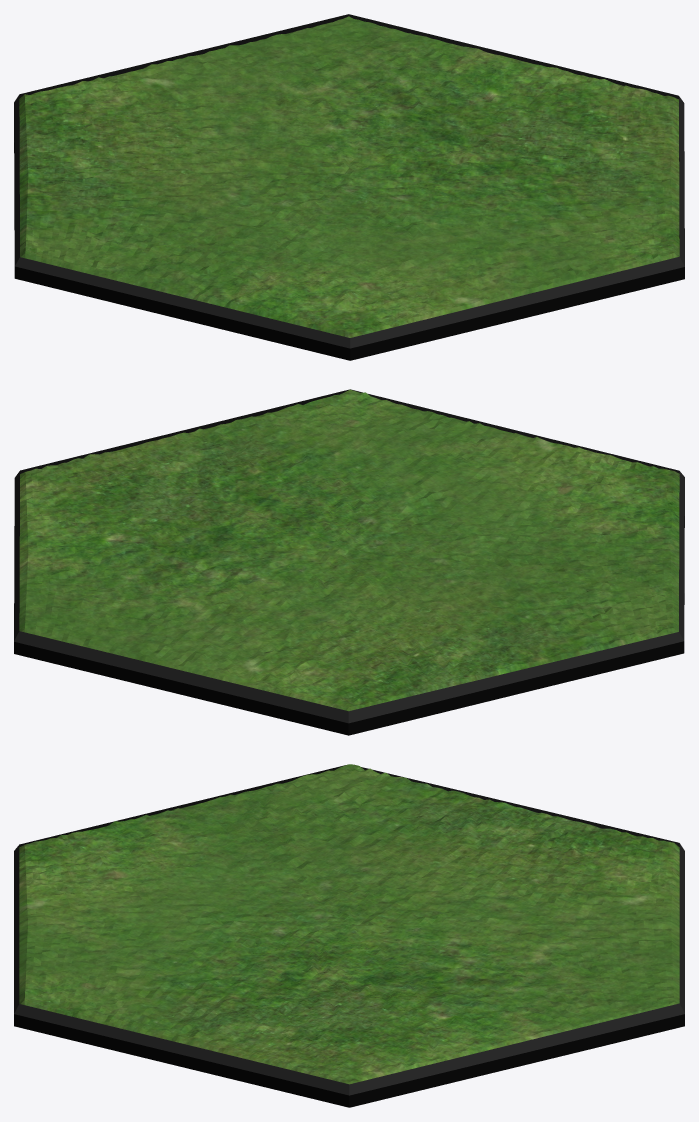
File: HexTileGrass_UsingDisplacement2.glb
3 views of the same model, one above another, from view 1: azimuth 30°, elevation 25°; view 2: azimuth 150°, elevation 25°; view 3: azimuth 270°, elevation 25° (orthographic).
Parts seen in each view (by area): view 1: HexTileGrass.002; view 2: HexTileGrass.002; view 3: HexTileGrass.002.
Boxes of the visible parts, <box> form: HexTileGrass.002: <box>14,14,684,360</box>; HexTileGrass.002: <box>14,389,684,735</box>; HexTileGrass.002: <box>14,764,684,1107</box>.
Bounding box in the file's own units: 1.99 × 0.0743 × 1.73.
1 material, 1 textured.
